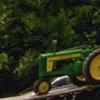Tractor: (23, 40, 100, 100)
